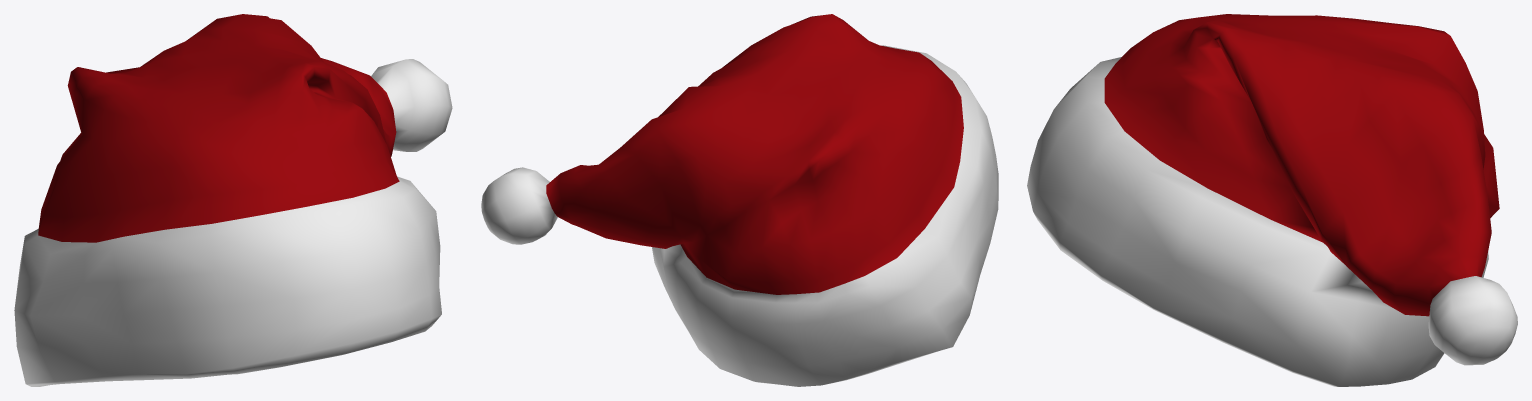
The model's file is Hat.fbx.
The picture shows the model from 3 angles, left to right: view 1: azimuth 30°, elevation 25°; view 2: azimuth 150°, elevation 25°; view 3: azimuth 270°, elevation 25°; orthographic projection. The views are drawn at different scales.
Parts seen in each view (by area): view 1: g_Hat_Hat; view 2: g_Hat_Hat; view 3: g_Hat_Hat.
Part boxes in pixels (box(x1,y1,x2,y2)): g_Hat_Hat: box(14, 14, 452, 386); g_Hat_Hat: box(481, 14, 998, 386); g_Hat_Hat: box(1027, 14, 1517, 386).
Bounding box in the file's own units: 283 × 191 × 251.
